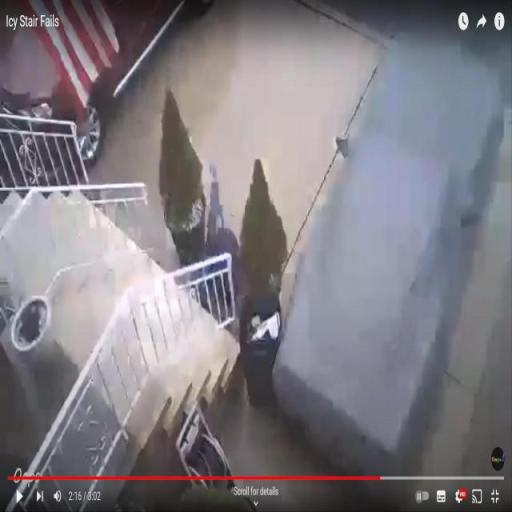Fall: (200, 161, 243, 312)
